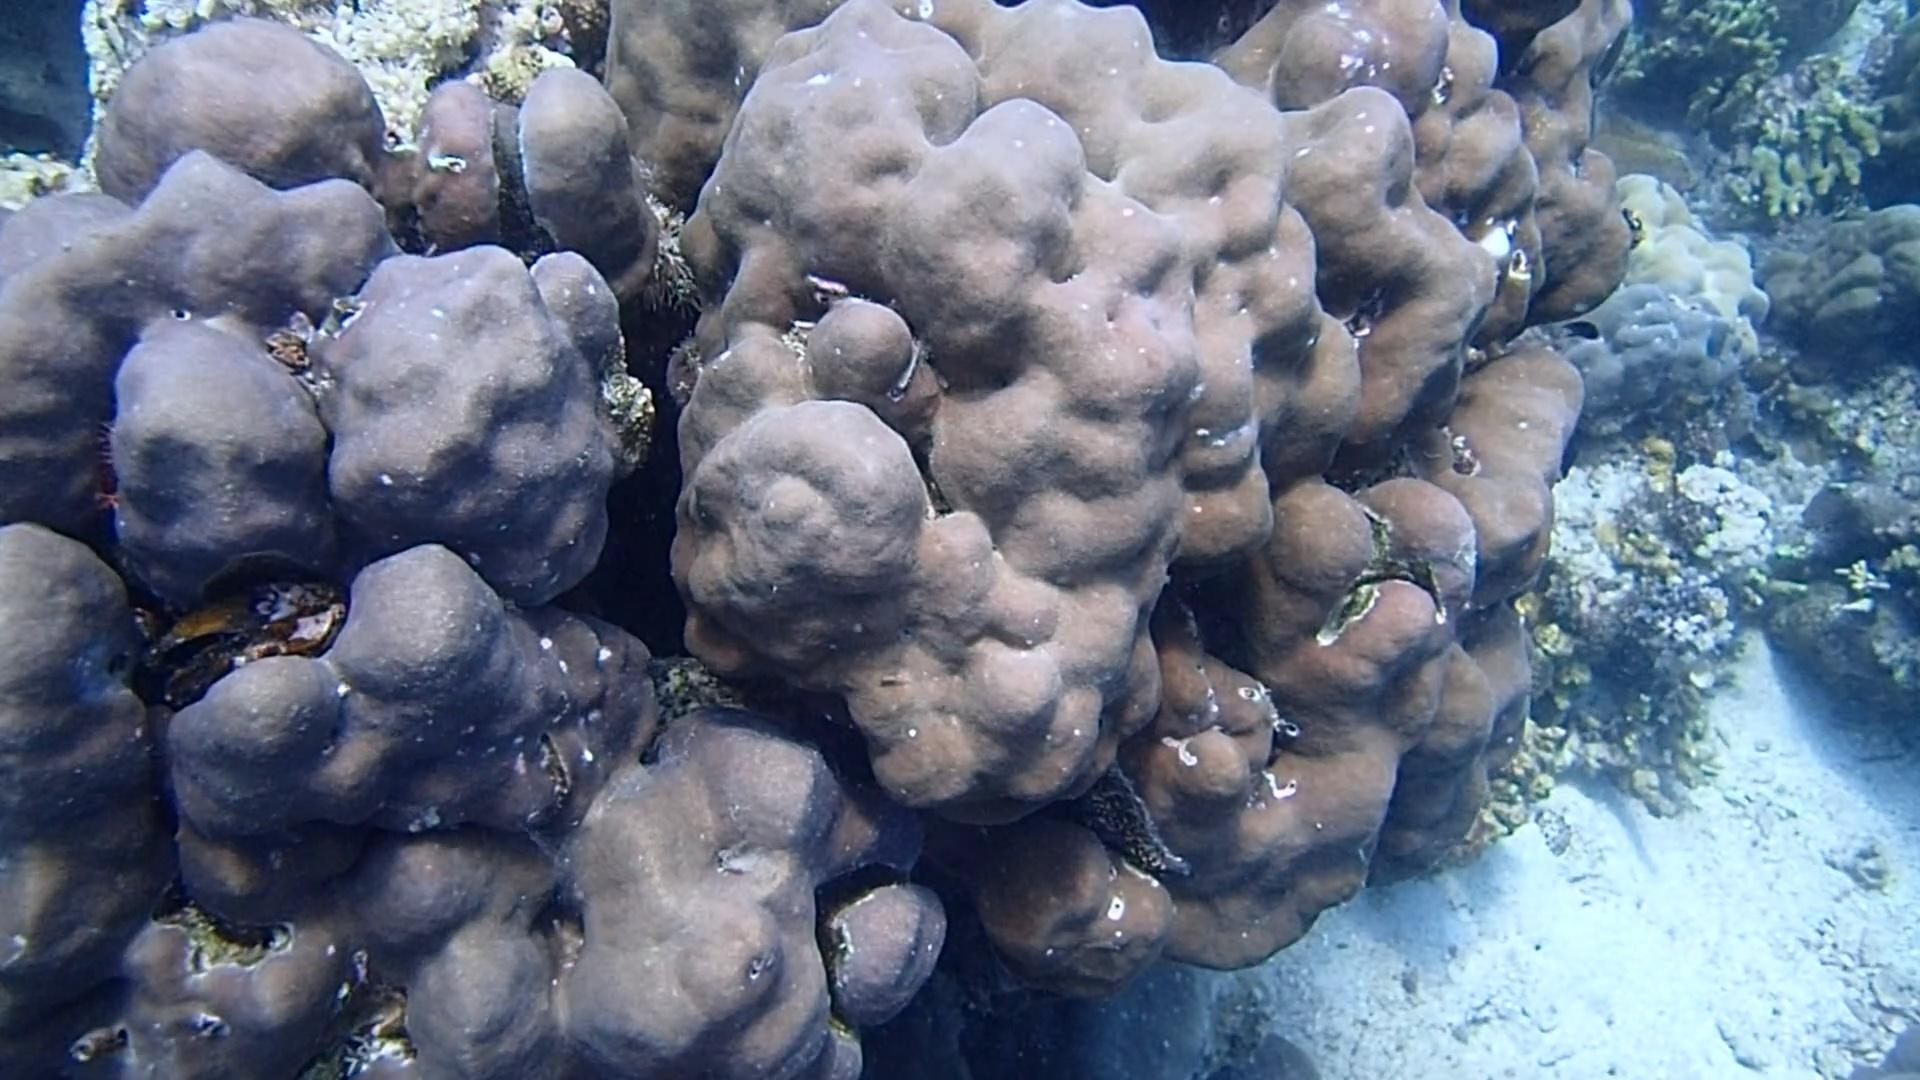Dark Fish: (1560, 313, 1605, 351)
